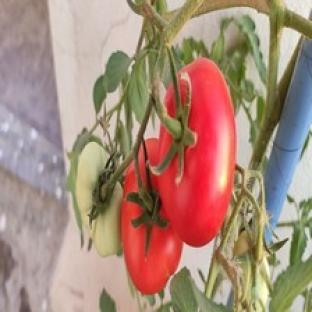Tomato: (159, 59, 236, 246), (122, 163, 182, 293), (76, 143, 122, 256), (233, 232, 270, 311)
